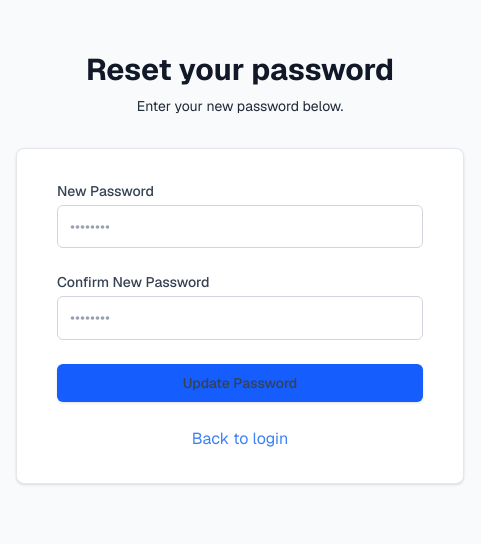
it: Reset Password Flow End-to-End › validates passwords match before submitting
The image size is (481, 544).
Fill in non-matching passwords
In the password field labelled "New Password": [240, 226] box [57,205,423,248], type "password123"
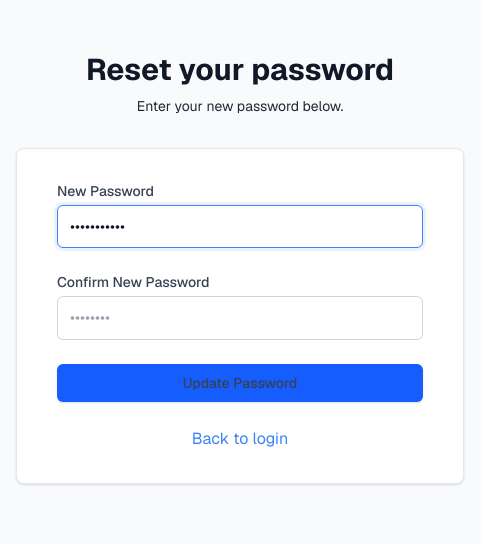
In the password field labelled "Confirm New Password": [240, 318] box [57,296,423,340], type "differentPassword"
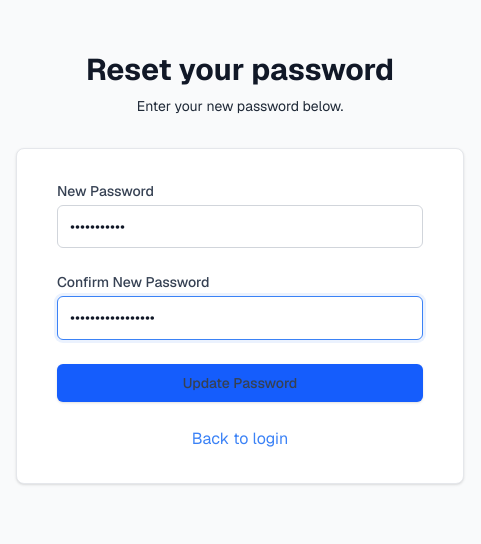
Click the button "Update Password": [240, 383] box [57,364,423,402]
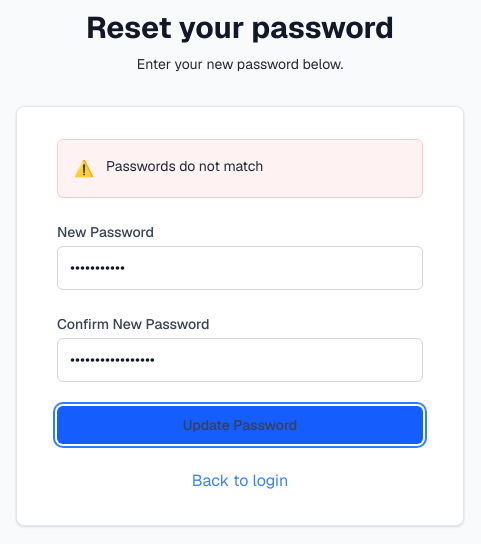
Check: the text "Passwords do not match" is shown, box [106,156,264,176]
Check: the text "⚠️" is shown, box [74,158,94,179]
